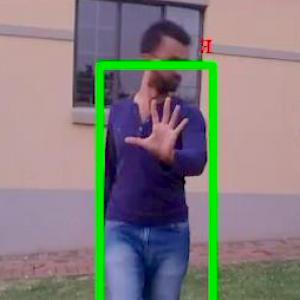follow_hand: (124, 91, 194, 168)
